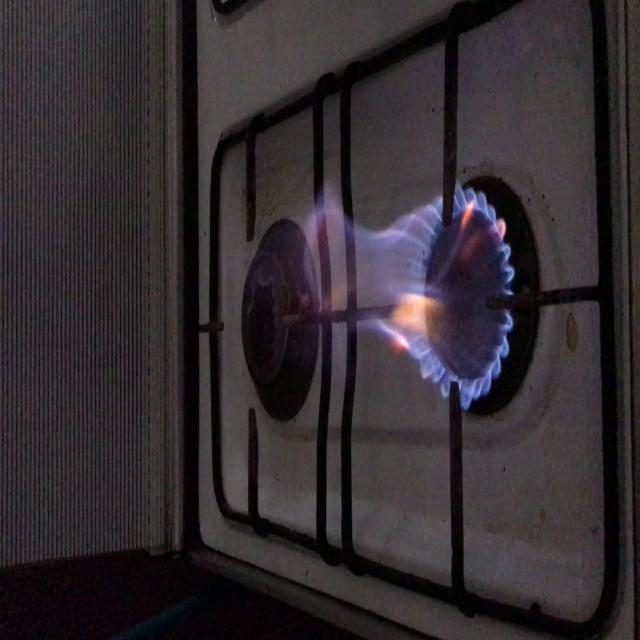Fire: (312, 194, 508, 388)
